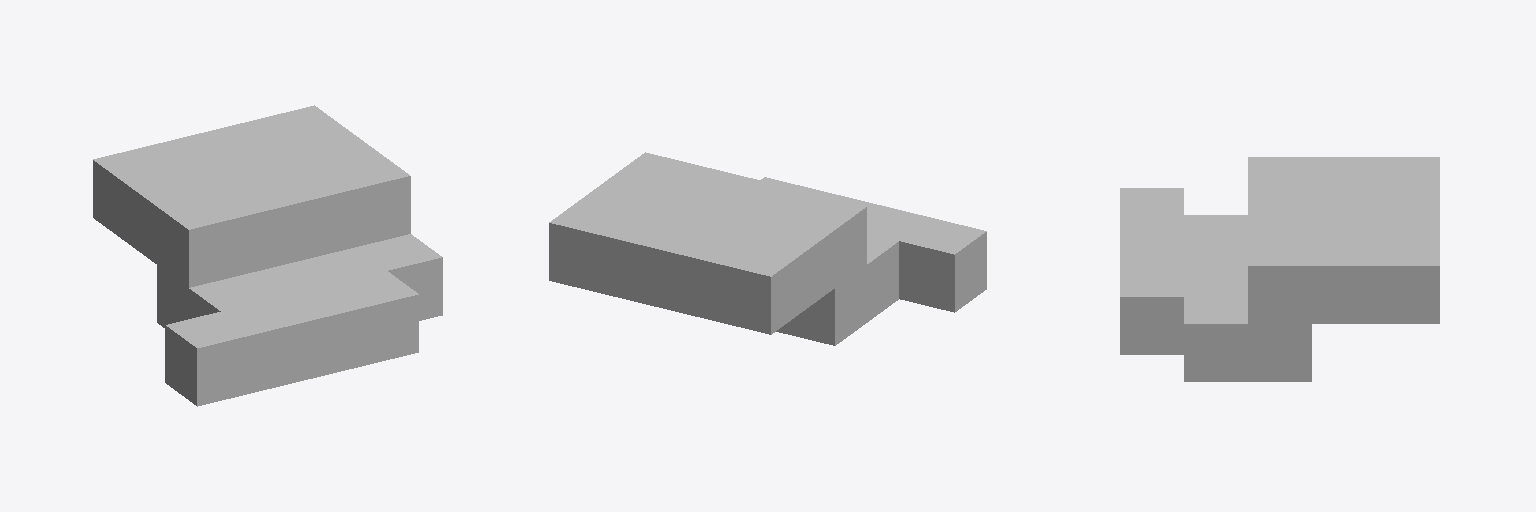
The model's file is RightWing.obj.
The picture shows the model from 3 angles: view 1: azimuth 30°, elevation 25°; view 2: azimuth 150°, elevation 25°; view 3: azimuth 270°, elevation 25°; orthographic projection.
Parts seen in each view (by area): view 1: object 1; view 2: object 1; view 3: object 1.
Part boxes in pixels (left/top/right/bottom): object 1: left=93, top=105, right=442, bottom=406; object 1: left=549, top=152, right=986, bottom=345; object 1: left=1120, top=157, right=1439, bottom=381.
Size of the model in its own units: 0.5 by 0.2 by 0.5.